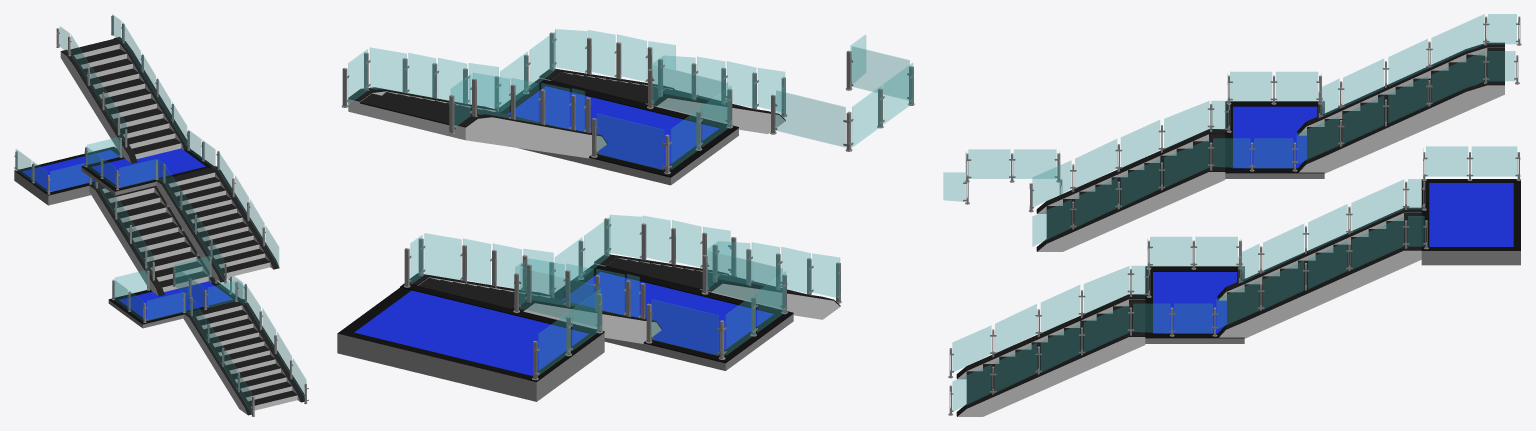
The model's file is Link_Stair.fbx.
The picture shows the model from 3 angles, left to right: view 1: azimuth 30°, elevation 25°; view 2: azimuth 150°, elevation 25°; view 3: azimuth 270°, elevation 25°; orthographic projection. The views are drawn at different scales.
Parts seen in each view (by area): view 1: Stair_Fence_A_2F, StraightStair02_2F, Stair_Fence_A_1F, StraightStair01_2F, StraightStair01_1F, StraightStair02_1F, Stair_Floor_A_2F, Stair_Floor_A_1F, Stair_Floor_B_1F; view 2: Stair_Fence_A_2F, Stair_Fence_A_1F, Stair_Floor_B_1F, Stair_Floor_A_2F, Stair_Floor_A_1F, StraightStair02_2F, StraightStair02_1F, StraightStair01_1F, StraightStair01_2F; view 3: Stair_Fence_A_2F, Stair_Fence_A_1F, StraightStair02_2F, StraightStair02_1F, StraightStair01_1F, StraightStair01_2F, Stair_Floor_B_1F, Stair_Floor_A_1F, Stair_Floor_A_2F.
Boxes of the visible parts, x1=… form: Stair_Fence_A_2F: x1=56, y1=14, x2=278, y2=309; StraightStair02_2F: x1=60, y1=37, x2=187, y2=163; Stair_Fence_A_1F: x1=14, y1=149, x2=308, y2=416; StraightStair01_2F: x1=156, y1=166, x2=279, y2=282; StraightStair01_1F: x1=183, y1=299, x2=304, y2=415; StraightStair02_1F: x1=89, y1=183, x2=214, y2=296; Stair_Floor_A_2F: x1=81, y1=148, x2=213, y2=195; Stair_Floor_A_1F: x1=108, y1=281, x2=240, y2=328; Stair_Floor_B_1F: x1=14, y1=146, x2=119, y2=205; Stair_Fence_A_2F: x1=341, y1=29, x2=914, y2=174; Stair_Fence_A_1F: x1=404, y1=215, x2=841, y2=380; Stair_Floor_B_1F: x1=337, y1=283, x2=604, y2=401; Stair_Floor_A_2F: x1=499, y1=78, x2=738, y2=185; Stair_Floor_A_1F: x1=554, y1=264, x2=793, y2=370; StraightStair02_2F: x1=348, y1=87, x2=607, y2=158; StraightStair02_1F: x1=409, y1=273, x2=662, y2=343; StraightStair01_1F: x1=594, y1=254, x2=840, y2=319; StraightStair01_2F: x1=539, y1=69, x2=785, y2=133; Stair_Fence_A_2F: x1=943, y1=14, x2=1521, y2=246; Stair_Fence_A_1F: x1=948, y1=146, x2=1520, y2=415; StraightStair02_2F: x1=1297, y1=42, x2=1504, y2=173; StraightStair02_1F: x1=1217, y1=207, x2=1421, y2=338; StraightStair01_1F: x1=956, y1=294, x2=1145, y2=416; StraightStair01_2F: x1=1036, y1=129, x2=1225, y2=251; Stair_Floor_B_1F: x1=1421, y1=179, x2=1520, y2=265; Stair_Floor_A_1F: x1=1145, y1=266, x2=1244, y2=343; Stair_Floor_A_2F: x1=1225, y1=101, x2=1324, y2=178.
Bounding box in the file's own units: 3.24 × 7.67 × 11.07.
